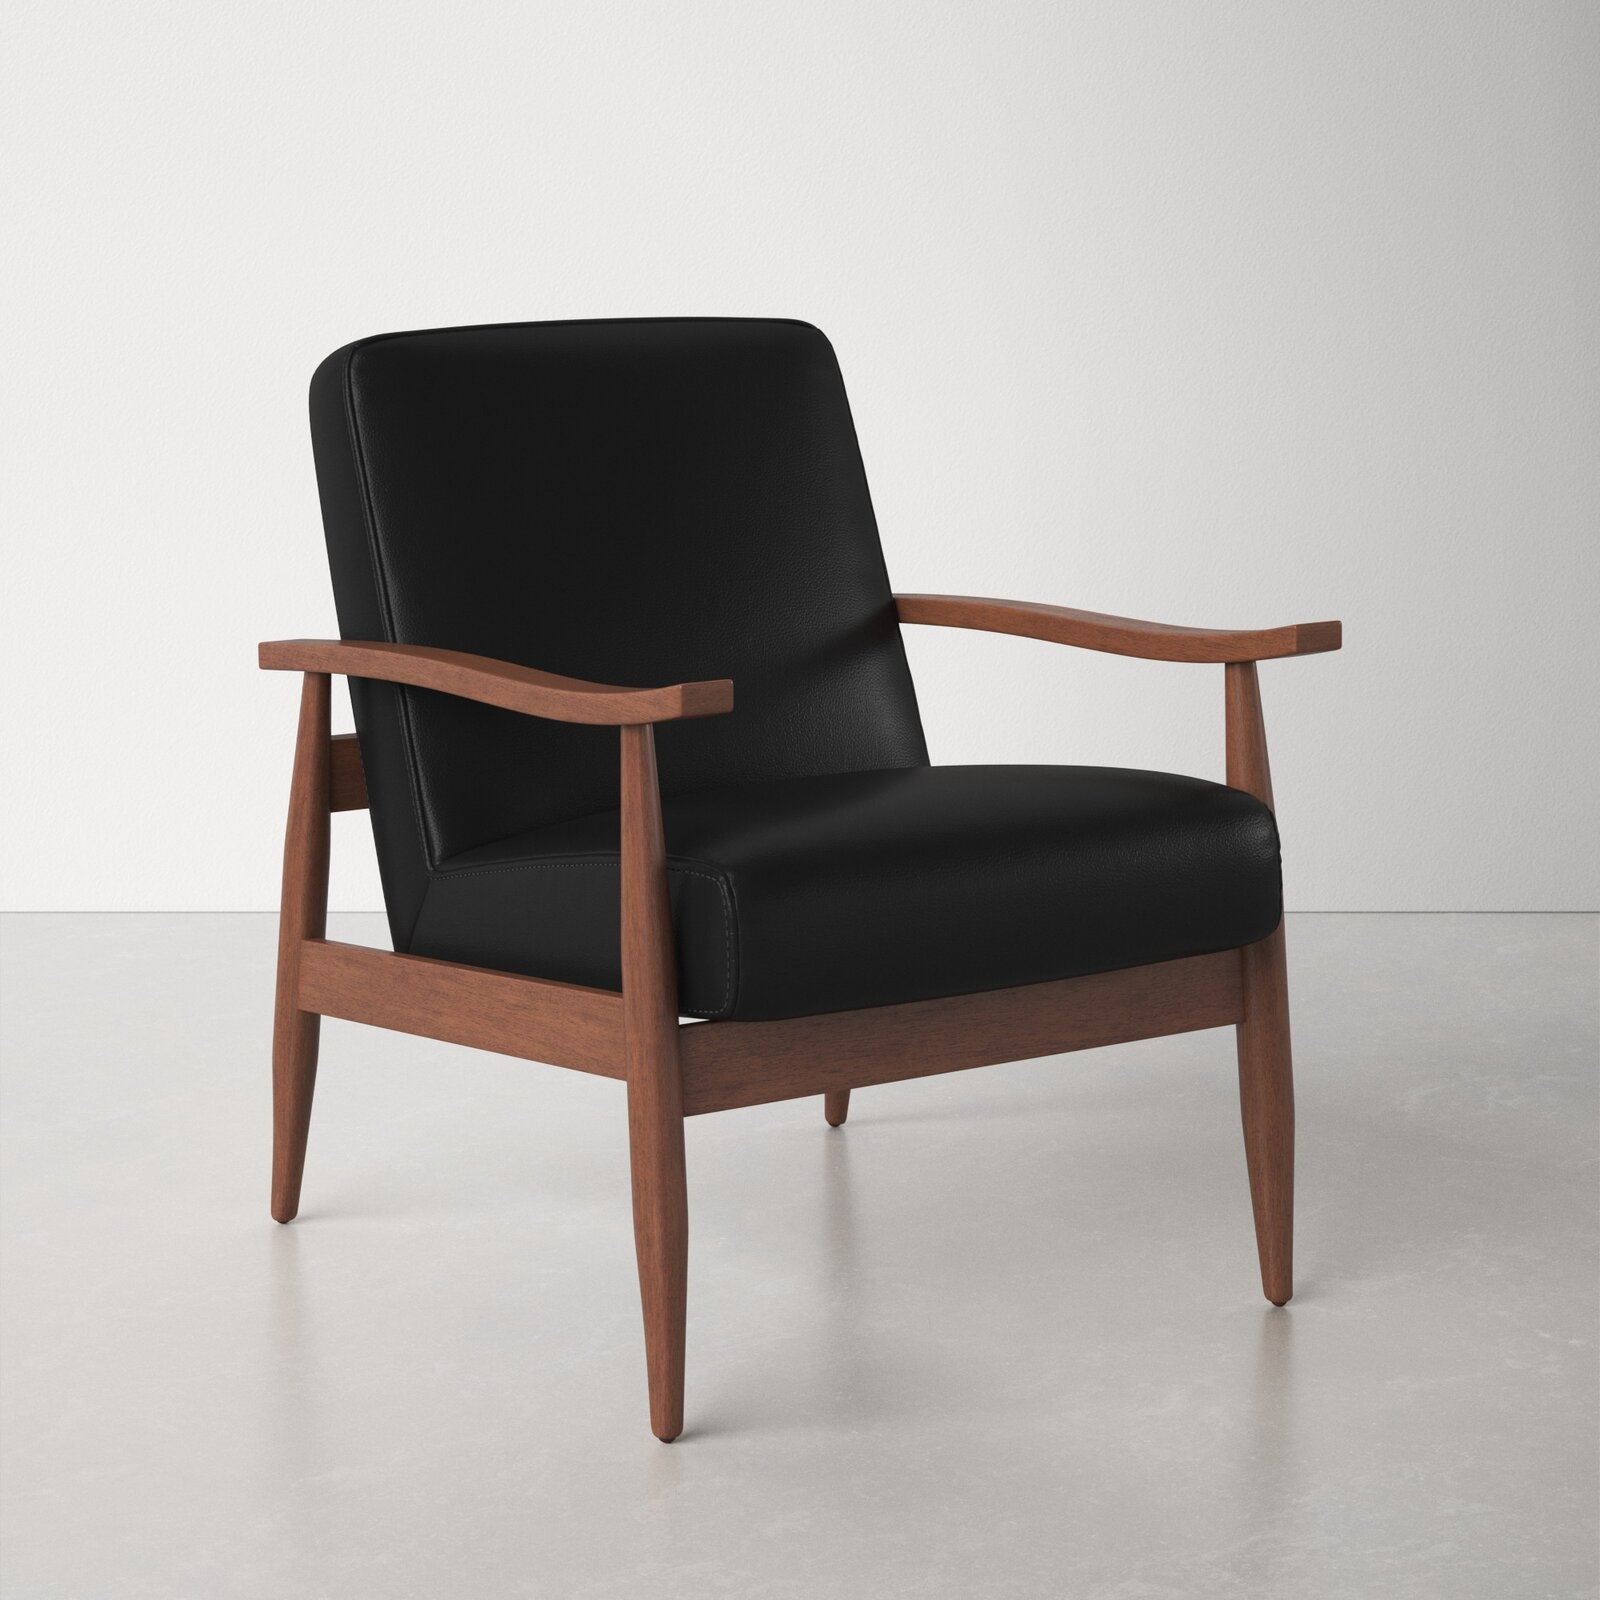obstacle: (262, 319, 1339, 1437)
